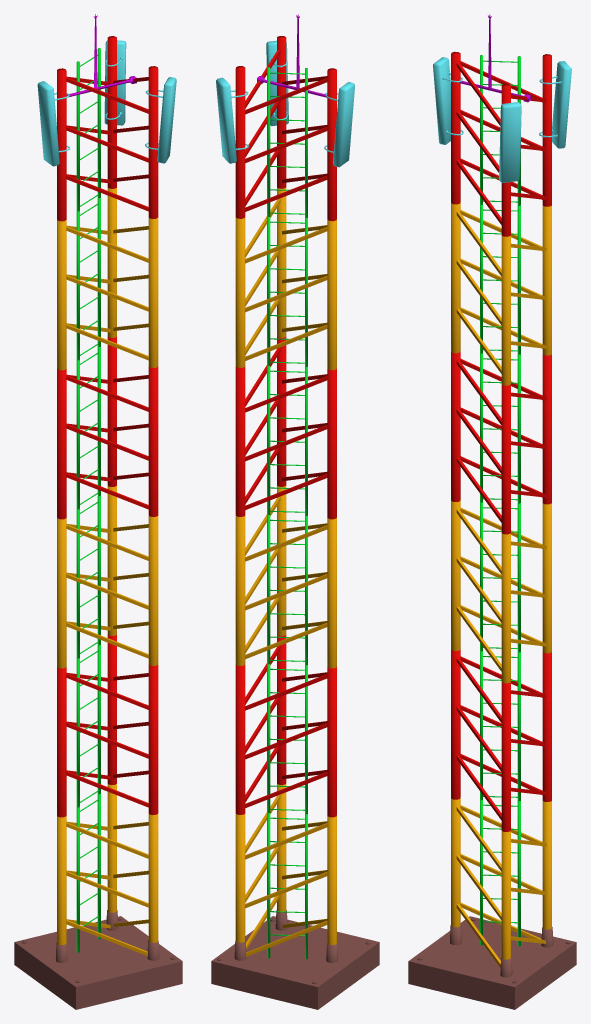
The model's file is RadioTower.fbx.
The picture shows the model from 3 angles, left to right: view 1: azimuth 30°, elevation 25°; view 2: azimuth 150°, elevation 25°; view 3: azimuth 330°, elevation 25°; orthographic projection.
Parts seen in each view (by area): view 1: Base, Tower.001, Tower.002, Tower.004, Tower.003, Tower.005, Tower, Sectorial, Stairs.002, Stairs.001, Stairs.003, Stairs.004 (+5 smaller); view 2: Base, Tower.004, Tower.003, Tower.002, Tower.001, Tower.005, Tower, Sectorial, Stairs.005, Stairs.004, Stairs.003, Stairs.001 (+5 smaller); view 3: Base, Tower.004, Tower.003, Tower.002, Tower.001, Tower, Tower.005, Sectorial.001, Sectorial.002, Sectorial, Stairs.004, Stairs.002 (+5 smaller).
Boxes of the visible parts, x1=… form: Base: x1=14, y1=910, x2=182, y2=1009; Tower.001: x1=57, y1=634, x2=158, y2=817; Tower.002: x1=57, y1=485, x2=158, y2=668; Tower.004: x1=57, y1=187, x2=158, y2=370; Tower.003: x1=57, y1=336, x2=158, y2=519; Tower.005: x1=57, y1=36, x2=158, y2=221; Tower: x1=57, y1=783, x2=158, y2=955; Sectorial: x1=37, y1=81, x2=69, y2=166; Stairs.002: x1=76, y1=496, x2=100, y2=658; Stairs.001: x1=76, y1=645, x2=100, y2=807; Stairs.003: x1=76, y1=347, x2=100, y2=509; Stairs.004: x1=76, y1=198, x2=100, y2=360; Base: x1=211, y1=910, x2=379, y2=1009; Tower.004: x1=235, y1=187, x2=336, y2=370; Tower.003: x1=235, y1=336, x2=336, y2=519; Tower.002: x1=235, y1=485, x2=336, y2=668; Tower.001: x1=235, y1=634, x2=336, y2=817; Tower.005: x1=235, y1=36, x2=336, y2=221; Tower: x1=235, y1=783, x2=336, y2=956; Sectorial: x1=324, y1=82, x2=354, y2=167; Stairs.005: x1=267, y1=67, x2=307, y2=217; Stairs.004: x1=267, y1=216, x2=307, y2=366; Stairs.003: x1=267, y1=366, x2=307, y2=515; Stairs.001: x1=267, y1=664, x2=307, y2=814; Base: x1=408, y1=916, x2=576, y2=1009; Tower.004: x1=451, y1=202, x2=551, y2=385; Tower.003: x1=451, y1=351, x2=551, y2=534; Tower.002: x1=451, y1=500, x2=551, y2=683; Tower.001: x1=451, y1=649, x2=551, y2=831; Tower: x1=451, y1=797, x2=551, y2=967; Tower.005: x1=451, y1=51, x2=551, y2=236; Sectorial.001: x1=499, y1=102, x2=521, y2=182; Sectorial.002: x1=539, y1=61, x2=571, y2=148; Sectorial: x1=433, y1=57, x2=463, y2=144; Stairs.004: x1=480, y1=204, x2=520, y2=354; Stairs.002: x1=480, y1=502, x2=520, y2=652.
Size of what is drawn, in the model's own units: 154 by 1290 by 153.
